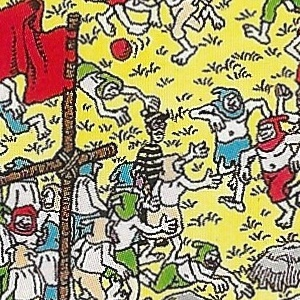Odlaw: (133, 110, 167, 189)
